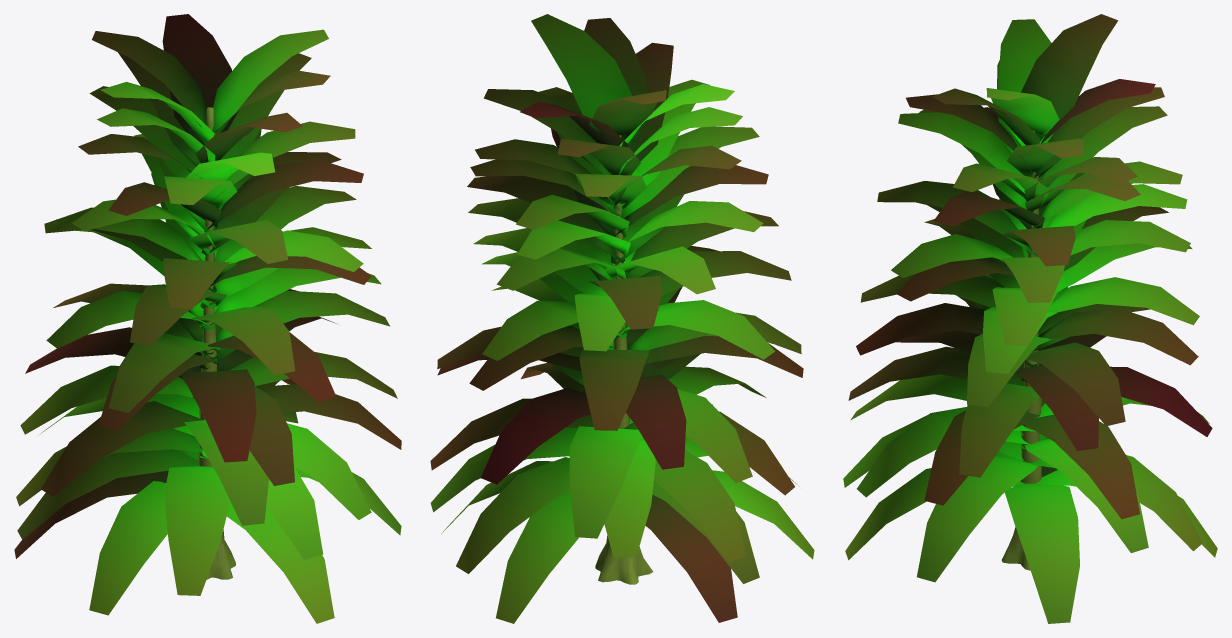
File: Stage_Lounge_Kelp_01.fbx
3 renders of one model, left to right at view 1: azimuth 30°, elevation 25°; view 2: azimuth 150°, elevation 25°; view 3: azimuth 270°, elevation 25°, orthographic. The views are drawn at different scales.
Parts seen in each view (by area): view 1: fern02_1, plant01_0; view 2: fern02_1, plant01_0; view 3: fern02_1, plant01_0.
Part boxes in pixels (left/top/right/bottom): fern02_1: left=14, top=14, right=401, bottom=623; plant01_0: left=198, top=107, right=235, bottom=579; fern02_1: left=430, top=14, right=814, bottom=623; plant01_0: left=595, top=135, right=653, bottom=584; fern02_1: left=843, top=14, right=1217, bottom=623; plant01_0: left=1001, top=130, right=1041, bottom=570.
Bounding box in the file's own units: 98.7 × 148 × 99.34.
